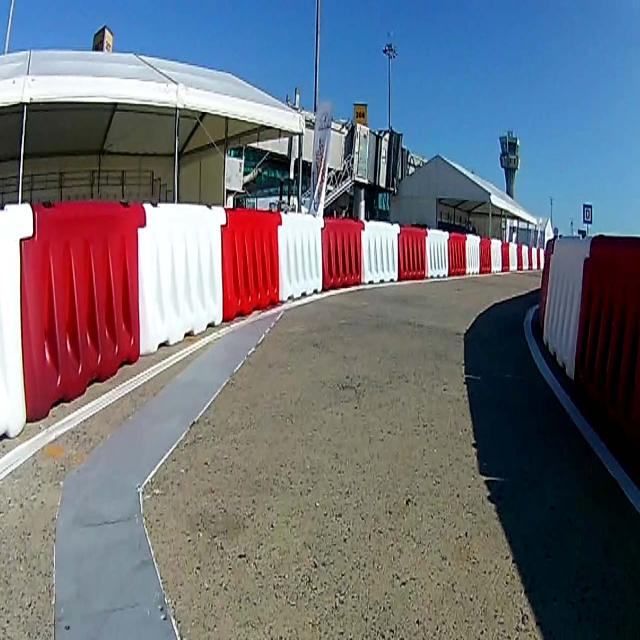durak: (583, 204, 592, 222)
